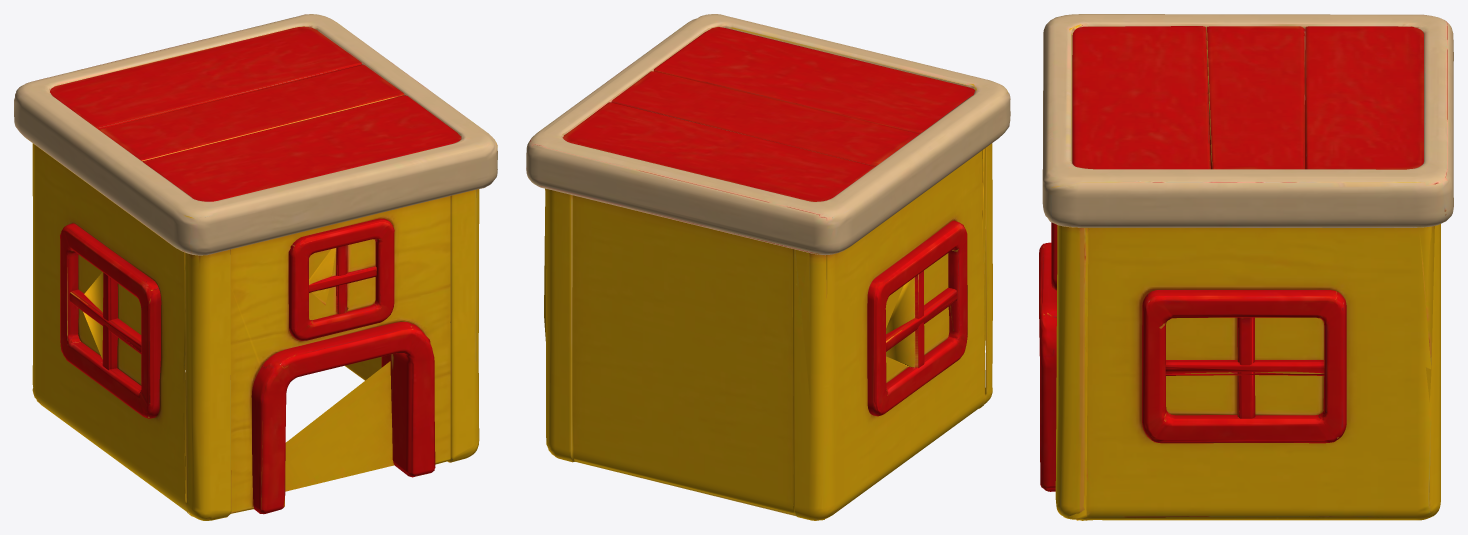
Rendered from toy_house.glb.
The picture shows the model from 3 angles, left to right: view 1: azimuth 30°, elevation 25°; view 2: azimuth 150°, elevation 25°; view 3: azimuth 270°, elevation 25°; orthographic projection. The views are drawn at different scales.
Size of what is drawn, in the model's own units: 1.05 by 1 by 1.06.
1 material, 1 textured.
